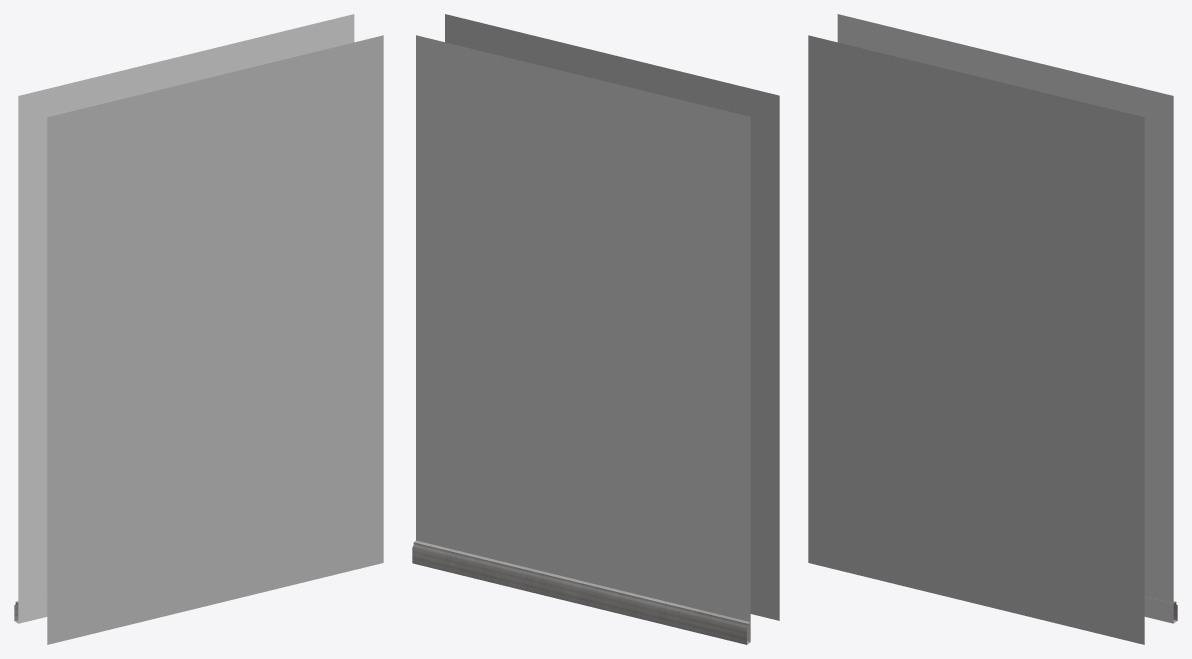
File: House_02_Wall_05.fbx
3 renders of one model, left to right at view 1: azimuth 30°, elevation 25°; view 2: azimuth 150°, elevation 25°; view 3: azimuth 330°, elevation 25°, orthographic.
Visible parts, largest first — view 1: House_02_Wall_05; view 2: House_02_Wall_05; view 3: House_02_Wall_05.
Part boxes in pixels (left/top/right/bottom): House_02_Wall_05: left=14, top=14, right=383, bottom=644; House_02_Wall_05: left=412, top=14, right=779, bottom=644; House_02_Wall_05: left=808, top=14, right=1177, bottom=644.
Bounding box in the file's own units: 200 × 300 × 33.93.
